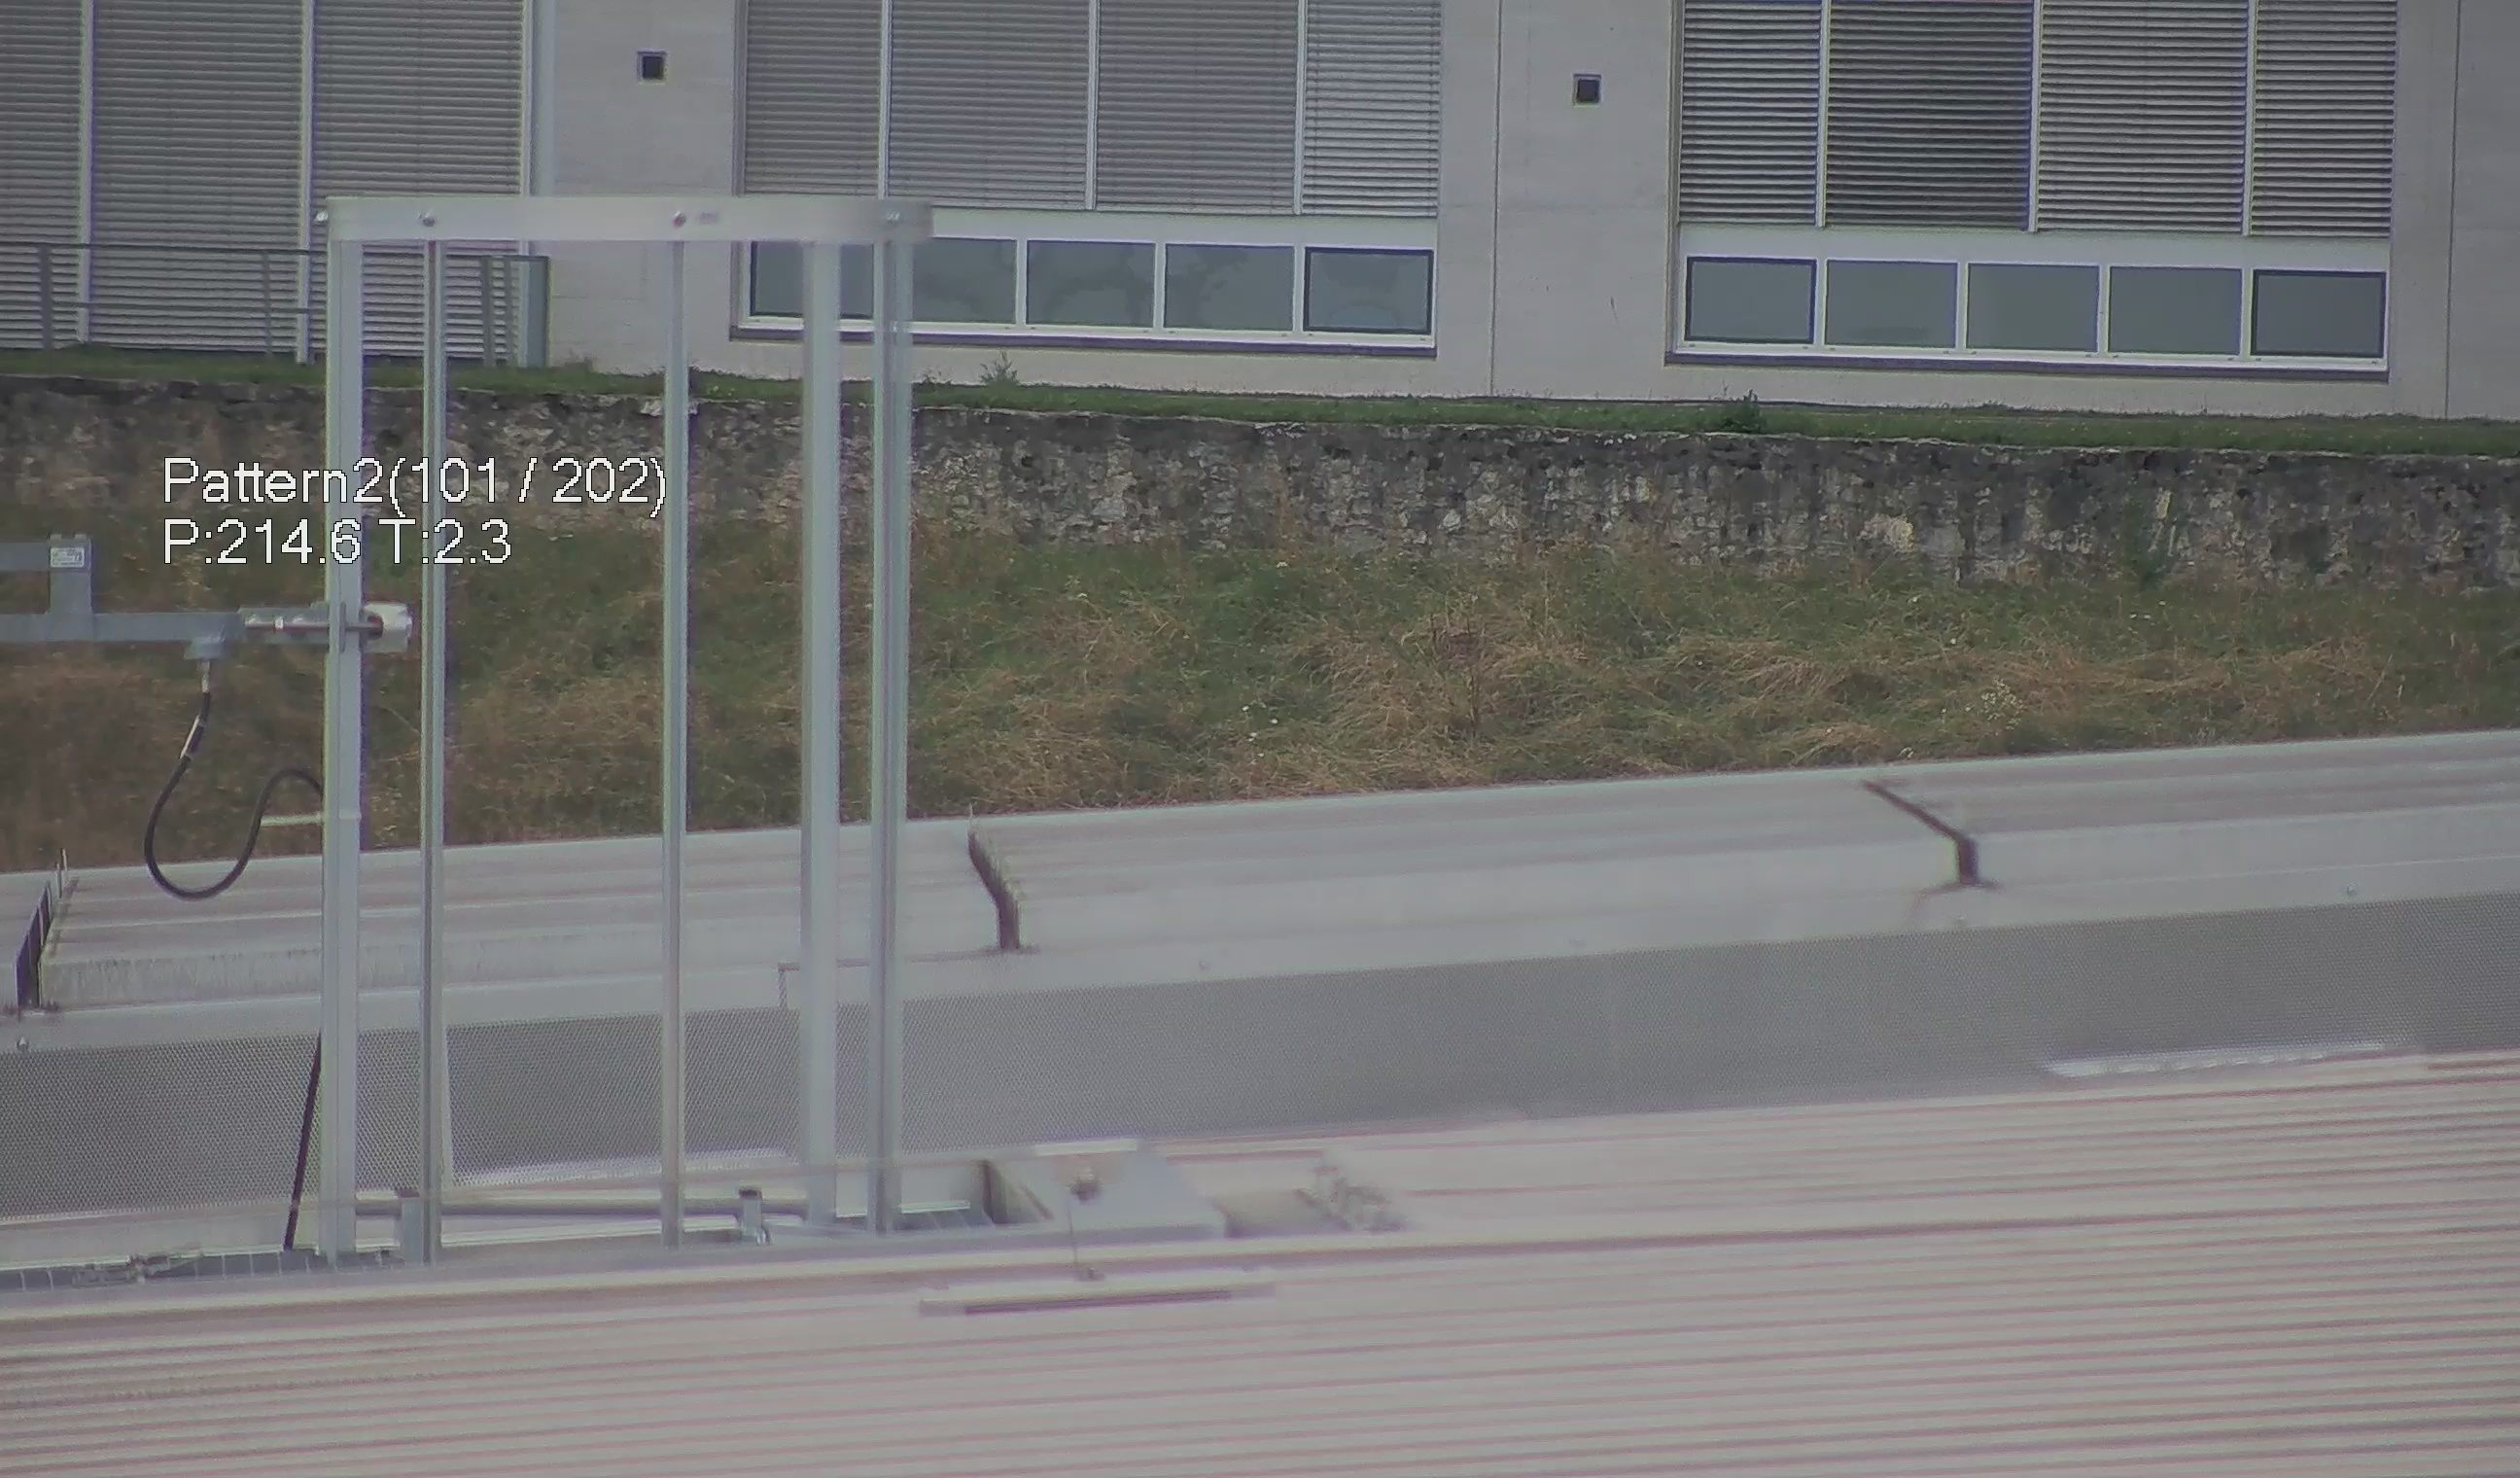Other: (950, 808, 1036, 966)
